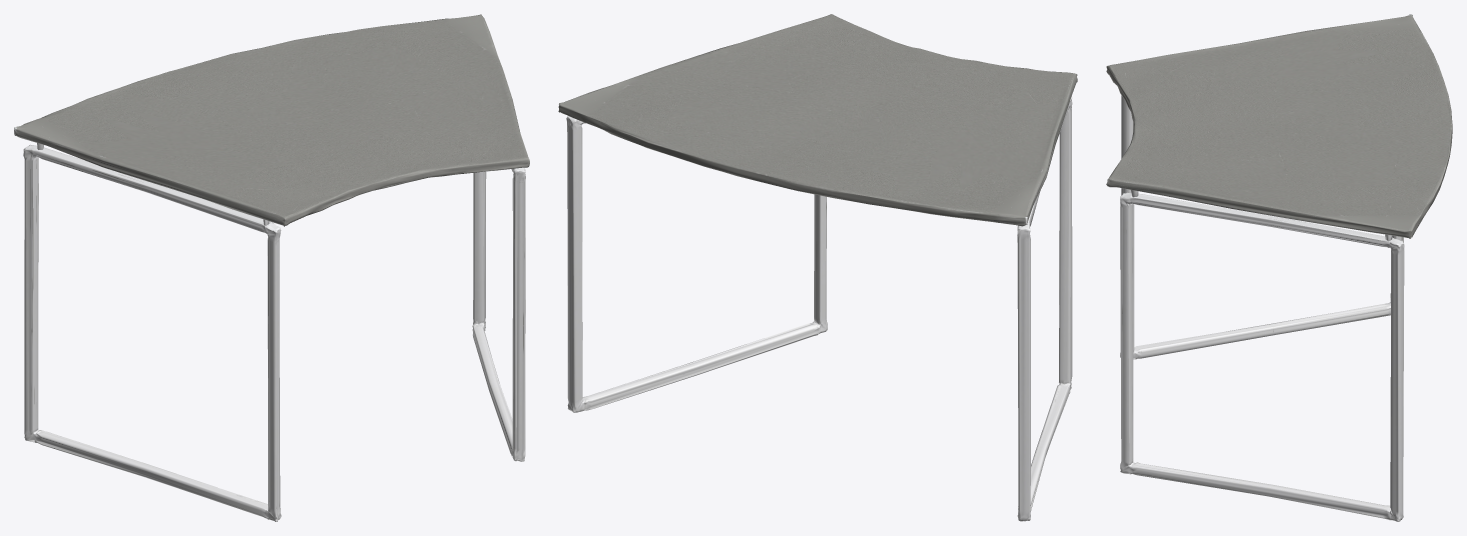
The model's file is Meshy_AI_wedge_of_a_round_office_desk_0903105612_texture.glb.
The picture shows the model from 3 angles, left to right: view 1: azimuth 30°, elevation 25°; view 2: azimuth 150°, elevation 25°; view 3: azimuth 270°, elevation 25°; orthographic projection. The views are drawn at different scales.
Parts seen in each view (by area): view 1: mesh_node; view 2: mesh_node; view 3: mesh_node.
Boxes of the visible parts, x1,y1,x2,y2 form: mesh_node: (14, 14, 529, 521); mesh_node: (558, 14, 1077, 521); mesh_node: (1106, 14, 1452, 521).
Bounding box in the file's own units: 1 × 0.6387 × 0.6777.
Materials: 1 (1 with a texture image).
